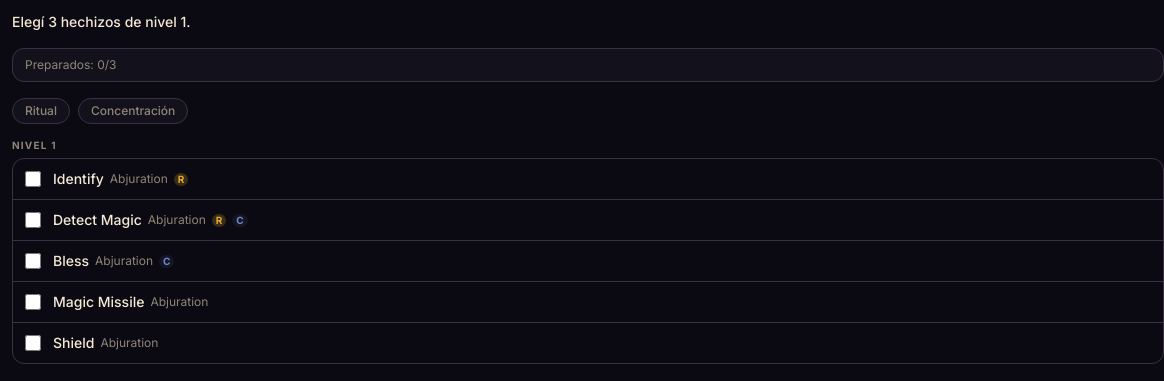
Test: SpellsPicker — filter chips (REQ-SP03-FILTER-RITUAL, SP03-S1) › A-RED-2: Concentration chip narrows visible spell rows to concentration=true only
Click the button "Concentración" at (133, 111), box [78,98,188,124]
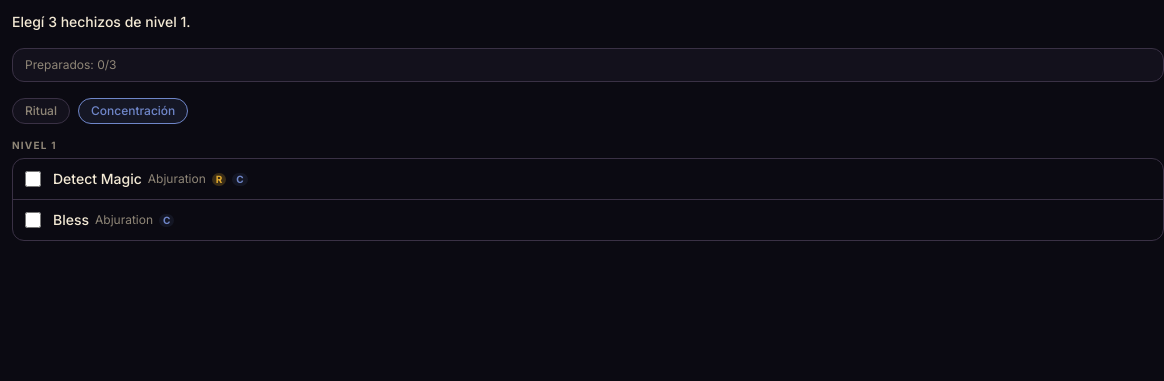
Expected: the text "Identify" is gone
Expected: the text "Magic Missile" is gone
Expected: the text "Shield" is gone
